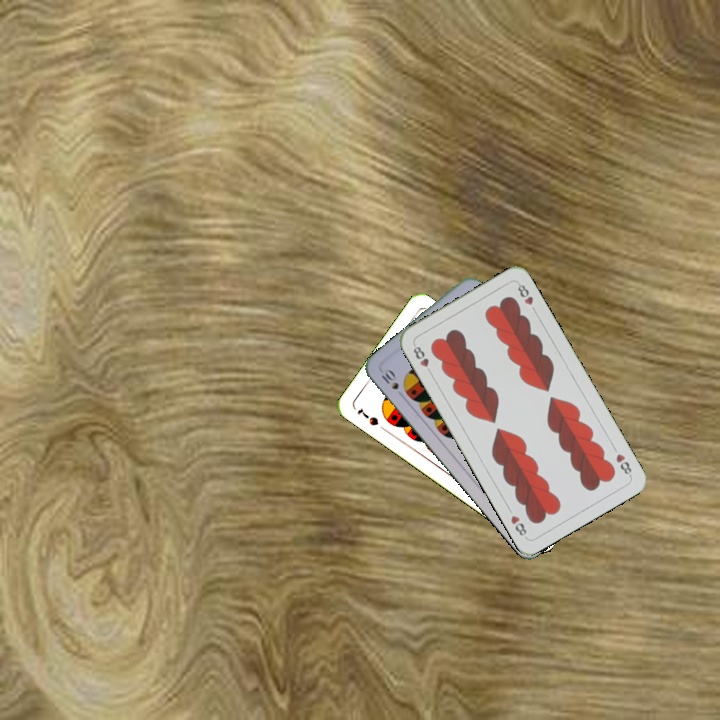H8: (409, 341, 435, 377), (612, 449, 634, 479)
S10: (377, 364, 401, 392)
S7: (353, 404, 381, 428)
